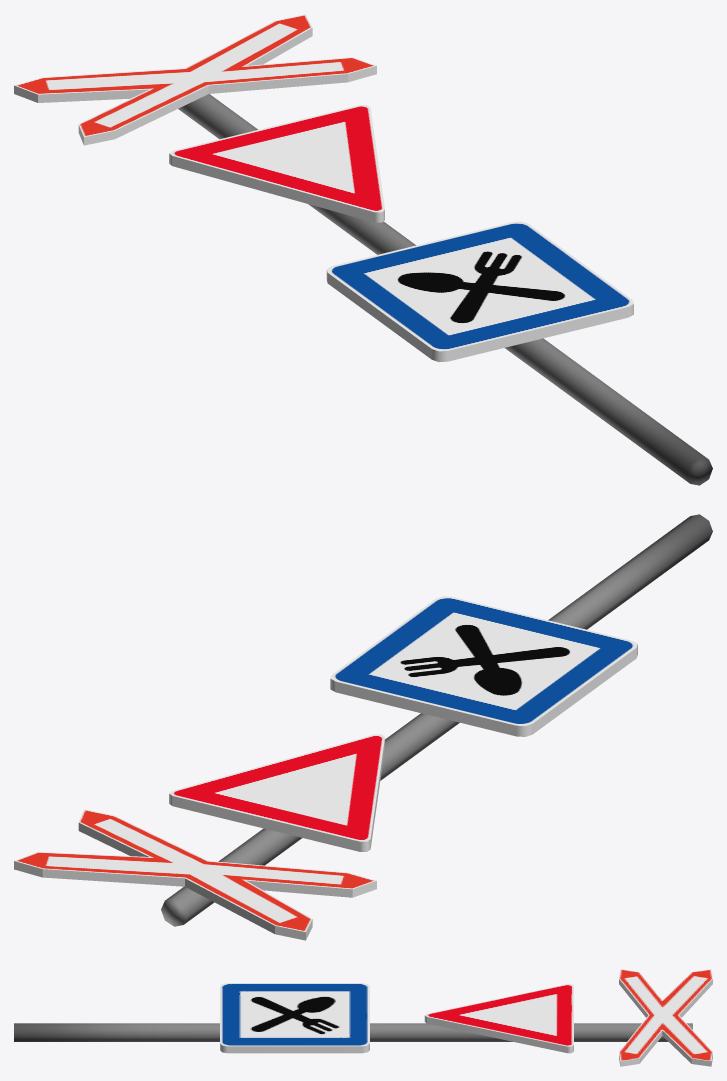
File: crossing_signs.fbx
3 renders of one model, top to bottom at view 1: azimuth 30°, elevation 25°; view 2: azimuth 150°, elevation 25°; view 3: azimuth 270°, elevation 25°, orthographic. The views are drawn at different scales.
Parts seen in each view (by area): view 1: crossing_signs; view 2: crossing_signs; view 3: crossing_signs.
Part boxes in pixels (x1,y1,x2,y2): crossing_signs: (14, 14, 712, 485); crossing_signs: (14, 514, 712, 940); crossing_signs: (14, 969, 712, 1066).
Bounding box in the file's own units: 4.22 × 0.5602 × 13.5.
